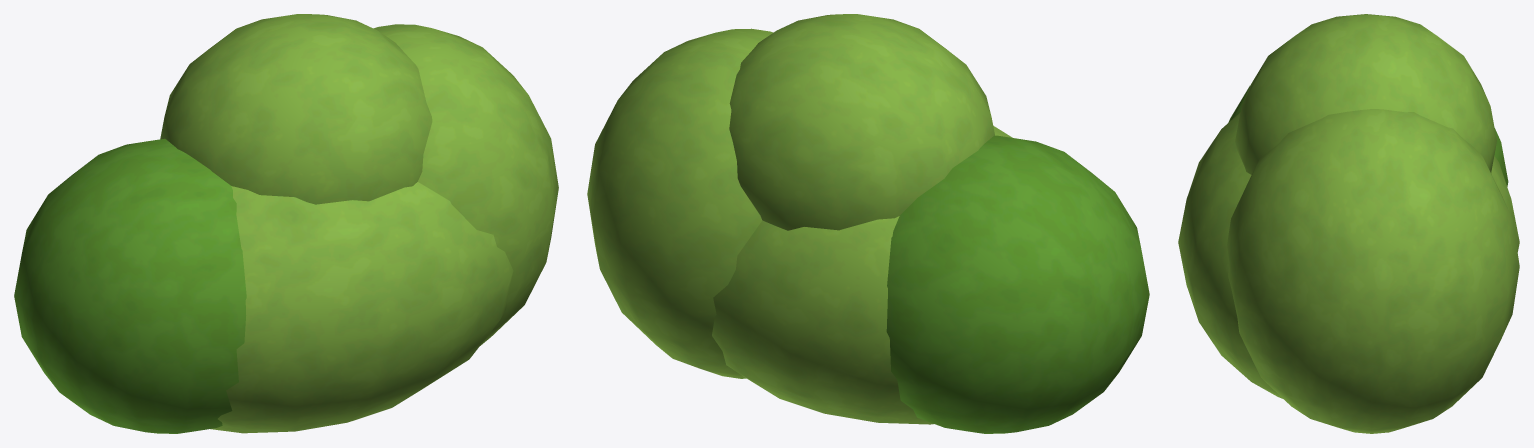
Rendered from prop_bush.glb.
The picture shows the model from 3 angles, left to right: view 1: azimuth 30°, elevation 25°; view 2: azimuth 150°, elevation 25°; view 3: azimuth 270°, elevation 25°; orthographic projection. The views are drawn at different scales.
Visible parts, largest first — view 1: prop_bush; view 2: prop_bush; view 3: prop_bush.
Part boxes in pixels (<box>): prop_bush: <box>14,14,558,433</box>; prop_bush: <box>587,14,1149,433</box>; prop_bush: <box>1178,14,1519,433</box>.
Bounding box in the file's own units: 1 × 0.7 × 0.6.
1 material, 1 textured.
